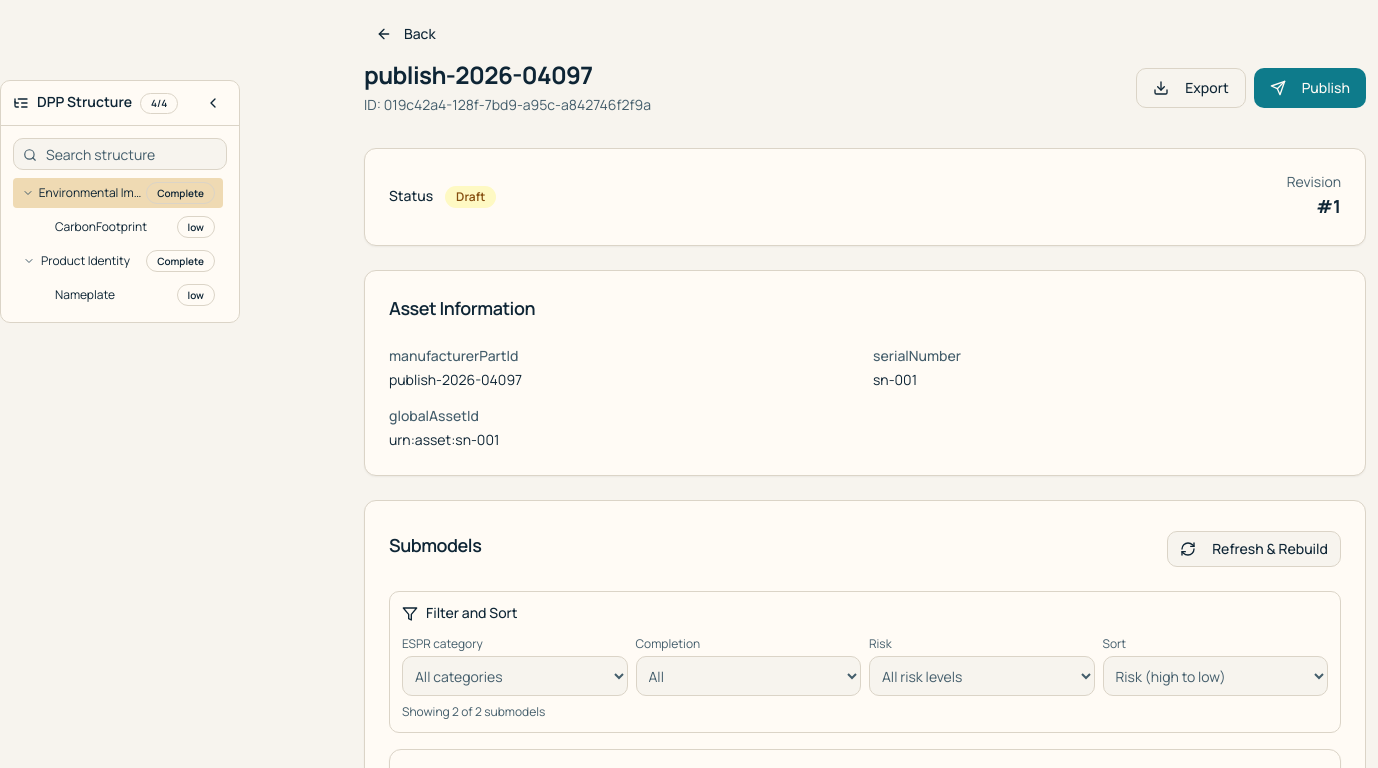
DPPEditorPage refresh & rebuild › shows partial failure summary with failed template keys
The width and height of the screenshot is (1378, 768).
Click the button with test id "dpp-refresh-rebuild" at (1254, 549), box [1167,531,1341,567]
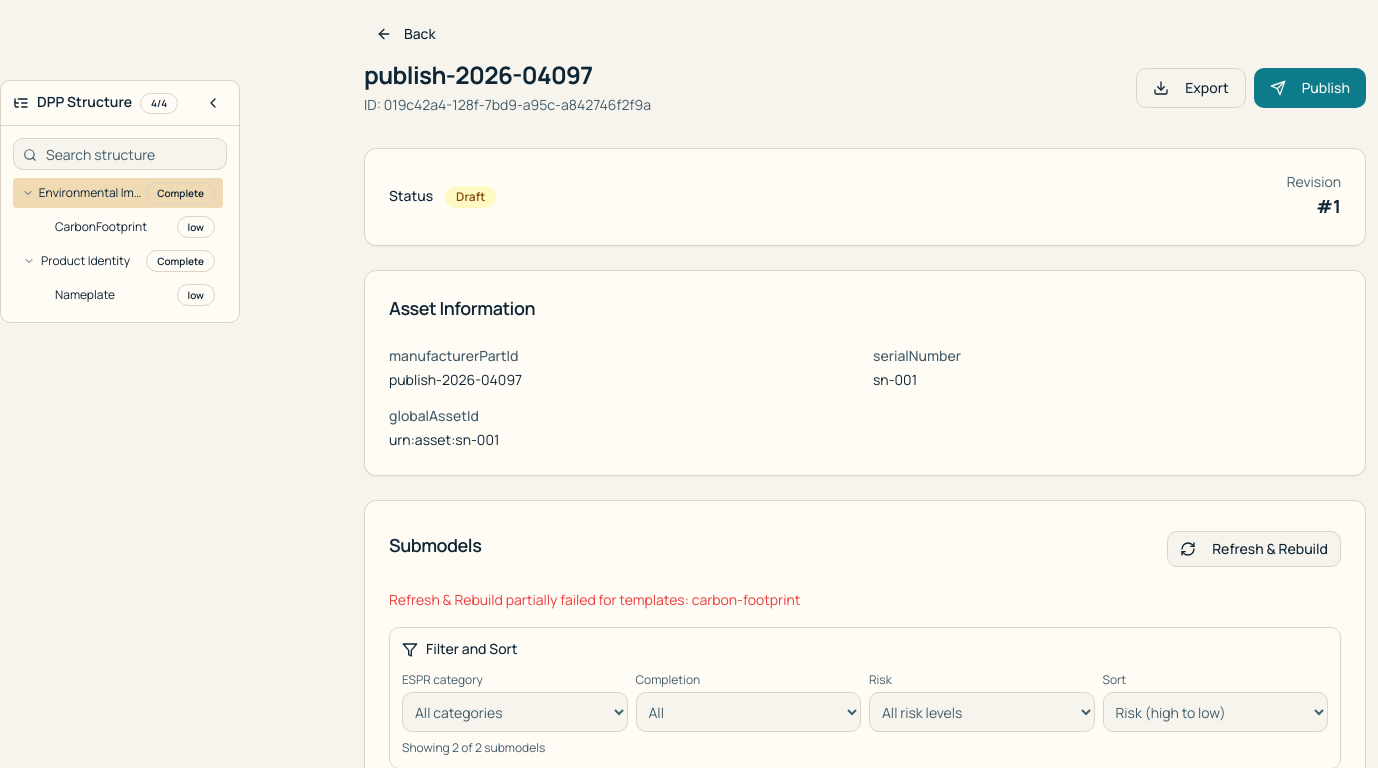
Expected: the text "Refresh & Rebuild partially failed for templates: carbon-footprint" is shown, [389,591,800,610]
